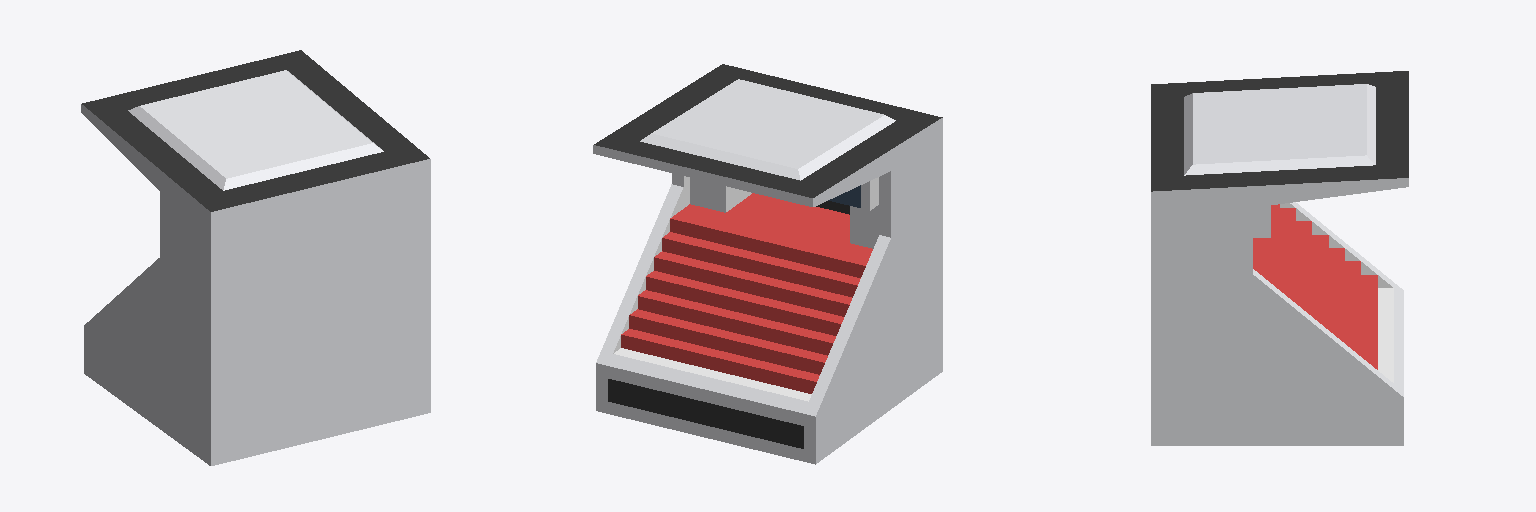
The model's file is grandStandCovered.obj.
3 views of the same model, side by side, from view 1: azimuth 30°, elevation 25°; view 2: azimuth 150°, elevation 25°; view 3: azimuth 270°, elevation 25° (orthographic).
Visible parts, largest first — view 1: grandStandCovered; view 2: grandStandCovered; view 3: grandStandCovered.
Boxes of the visible parts, <box> form: grandStandCovered: <box>81,50,430,465</box>; grandStandCovered: <box>593,64,942,464</box>; grandStandCovered: <box>1151,71,1408,445</box>.
Bounding box in the file's own units: 10 × 11.86 × 10.2.